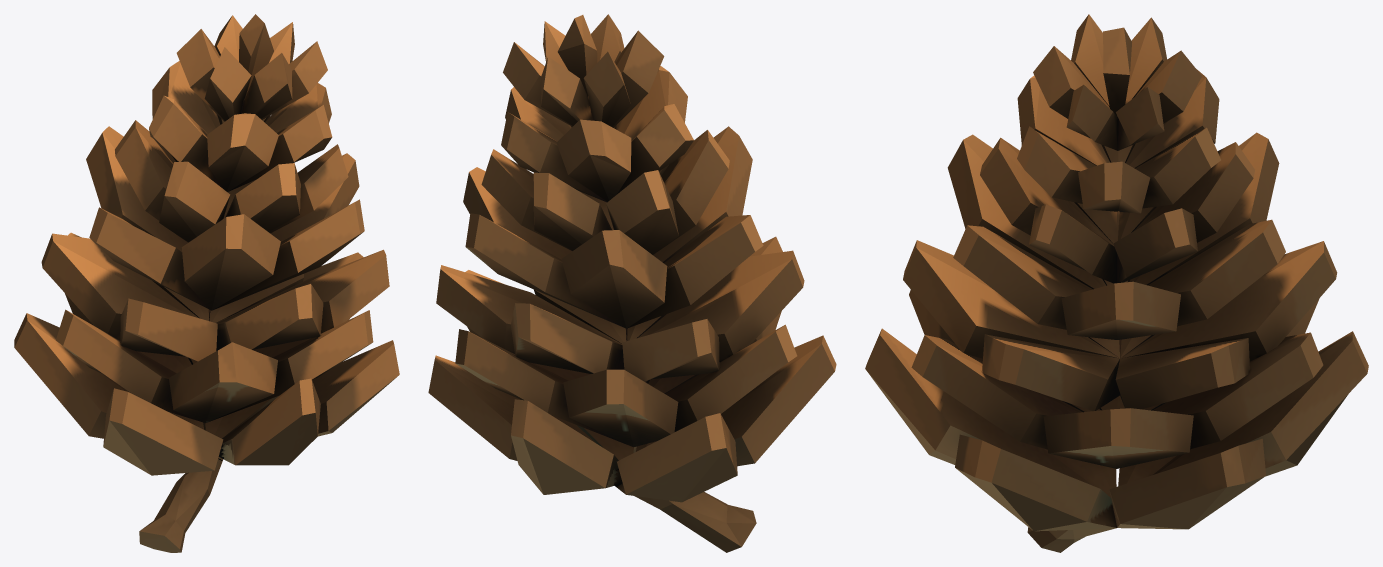
Rendered from 83e7f4a9-8a31-43b5-9d51-3b5f056fba67.glb.
The picture shows the model from 3 angles, left to right: view 1: azimuth 30°, elevation 25°; view 2: azimuth 150°, elevation 25°; view 3: azimuth 270°, elevation 25°; orthographic projection. The views are drawn at different scales.
Parts seen in each view (by area): view 1: Pinecone; view 2: Pinecone; view 3: Pinecone.
Part boxes in pixels (left/top/right/bottom): Pinecone: left=14, top=14, right=399, bottom=552; Pinecone: left=428, top=14, right=836, bottom=552; Pinecone: left=865, top=14, right=1368, bottom=552.
Bounding box in the file's own units: 1.18 × 1.79 × 1.38.
1 material, 1 textured.
